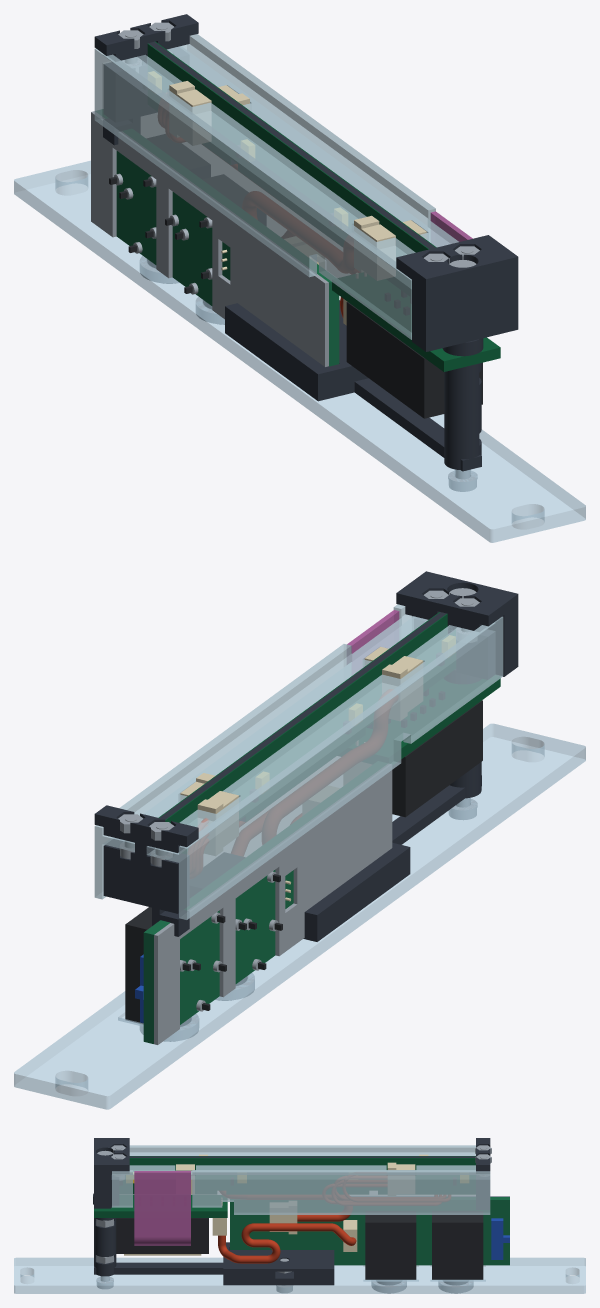
File: zudo_led_block_A7_3hp_pet_assembled.glb
The picture shows the model from 3 angles, top to bottom: view 1: azimuth 30°, elevation 25°; view 2: azimuth 150°, elevation 25°; view 3: azimuth 270°, elevation 25°; orthographic projection. The views are drawn at different scales.
Visible parts, largest first — view 1: left_diffuser, front_pmma_A7, solder_face_low_profile_zone, spine_PETG, top_leaf_adapter_cap, left_leaf_film_PET, right_diffuser, controller_pcb_A7, adapter_C5665_keyed_header, bottom_leaf_cap, power_adapter_pcb_A5, controller_to_left_leaf_sh4 (+6 smaller); view 2: left_diffuser, front_pmma_A7, solder_face_low_profile_zone, right_diffuser, left_leaf_film_PET, controller_pcb_A7, top_leaf_adapter_cap, bottom_leaf_cap, spine_PETG, adapter_C5665_keyed_header, power_adapter_pcb_A5, controller_to_left_leaf_sh4 (+6 smaller); view 3: right_diffuser, front_pmma_A7, right_leaf_film_PET, controller_pcb_A7, spine_PETG, IDC_ribbon_R3_side_exit_SCENARIO, left_diffuser, jack_thru_PJ-324M, jack_in_PJ-324M, adapter_to_controller_power, top_leaf_adapter_cap, adapter_C5665_keyed_header (+16 smaller).
Boxes of the visible parts, bbox=[...] form: left_diffuser: bbox=[94, 48, 415, 339]; front_pmma_A7: bbox=[14, 160, 585, 542]; solder_face_low_profile_zone: bbox=[91, 111, 328, 366]; spine_PETG: bbox=[225, 300, 481, 471]; top_leaf_adapter_cap: bbox=[396, 235, 518, 351]; left_leaf_film_PET: bbox=[147, 43, 428, 296]; right_diffuser: bbox=[167, 34, 458, 247]; controller_pcb_A7: bbox=[96, 109, 339, 366]; adapter_C5665_keyed_header: bbox=[346, 291, 482, 418]; bottom_leaf_cap: bbox=[94, 14, 198, 121]; power_adapter_pcb_A5: bbox=[332, 273, 500, 371]; controller_to_left_leaf_sh4: bbox=[242, 191, 354, 272]; left_diffuser: bbox=[146, 616, 503, 919]; front_pmma_A7: bbox=[14, 723, 585, 1109]; solder_face_low_profile_zone: bbox=[154, 764, 392, 1044]; right_diffuser: bbox=[94, 604, 427, 899]; left_leaf_film_PET: bbox=[165, 613, 455, 853]; controller_pcb_A7: bbox=[143, 761, 386, 1043]; top_leaf_adapter_cap: bbox=[396, 571, 518, 679]; bottom_leaf_cap: bbox=[94, 805, 198, 913]; spine_PETG: bbox=[303, 762, 481, 941]; adapter_C5665_keyed_header: bbox=[389, 689, 482, 817]; power_adapter_pcb_A5: bbox=[338, 675, 500, 764]; controller_to_left_leaf_sh4: bbox=[262, 689, 397, 843]; right_diffuser: bbox=[112, 1165, 490, 1214]; front_pmma_A7: bbox=[14, 1257, 585, 1293]; right_leaf_film_PET: bbox=[120, 1158, 475, 1194]; controller_pcb_A7: bbox=[230, 1197, 509, 1265]; spine_PETG: bbox=[94, 1218, 334, 1285]; IDC_ribbon_R3_side_exit_SCENARIO: bbox=[134, 1171, 190, 1245]; left_diffuser: bbox=[129, 1145, 475, 1155]; jack_thru_PJ-324M: bbox=[432, 1211, 483, 1284]; jack_in_PJ-324M: bbox=[365, 1211, 416, 1284]; adapter_to_controller_power: bbox=[218, 1223, 356, 1263]; top_leaf_adapter_cap: bbox=[94, 1138, 129, 1208]; adapter_C5665_keyed_header: bbox=[116, 1218, 208, 1253].
Size of the model in its own units: 14.9 by 33.8 by 129.
